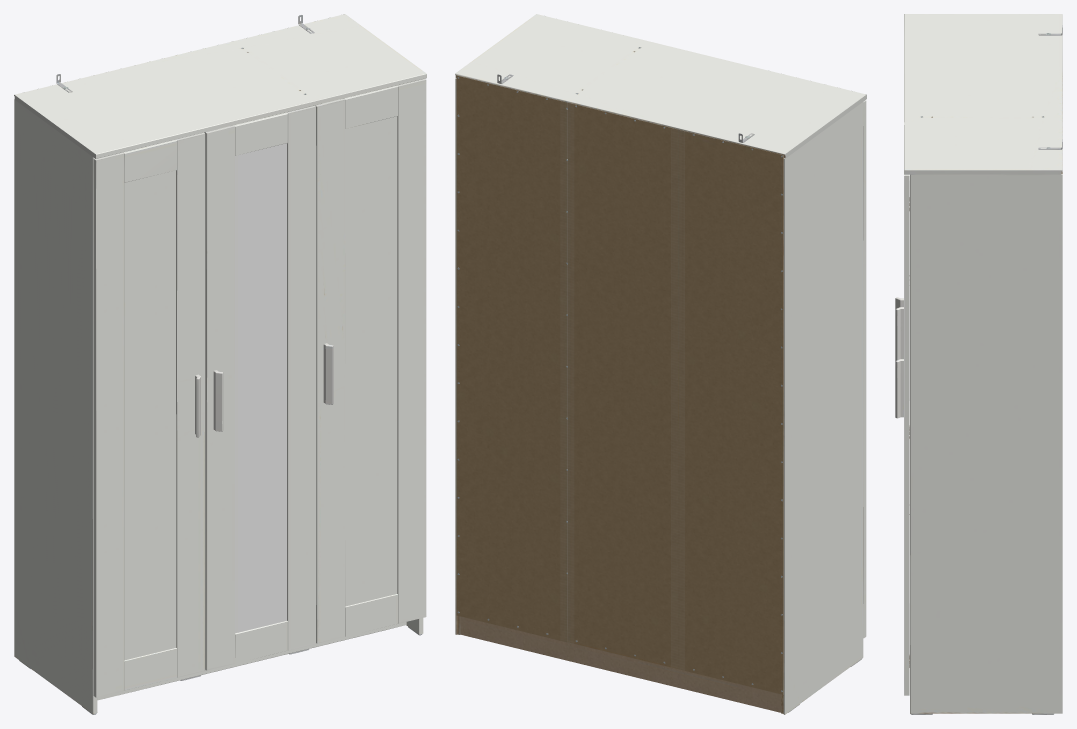
The model's file is Wardrobe.glb.
The picture shows the model from 3 angles, left to right: view 1: azimuth 30°, elevation 25°; view 2: azimuth 150°, elevation 25°; view 3: azimuth 270°, elevation 25°; orthographic projection. The views are drawn at different scales.
Visible parts, largest first — view 1: BRIMNES_404.079.22; view 2: BRIMNES_404.079.22; view 3: BRIMNES_404.079.22.
Part boxes in pixels (box(x1,y1,x2,y2)): BRIMNES_404.079.22: box(14, 14, 426, 714); BRIMNES_404.079.22: box(455, 14, 866, 714); BRIMNES_404.079.22: box(895, 14, 1062, 714).
Size of the model in its own units: 1.17 by 1.94 by 0.529.
2 materials, 2 textured.
